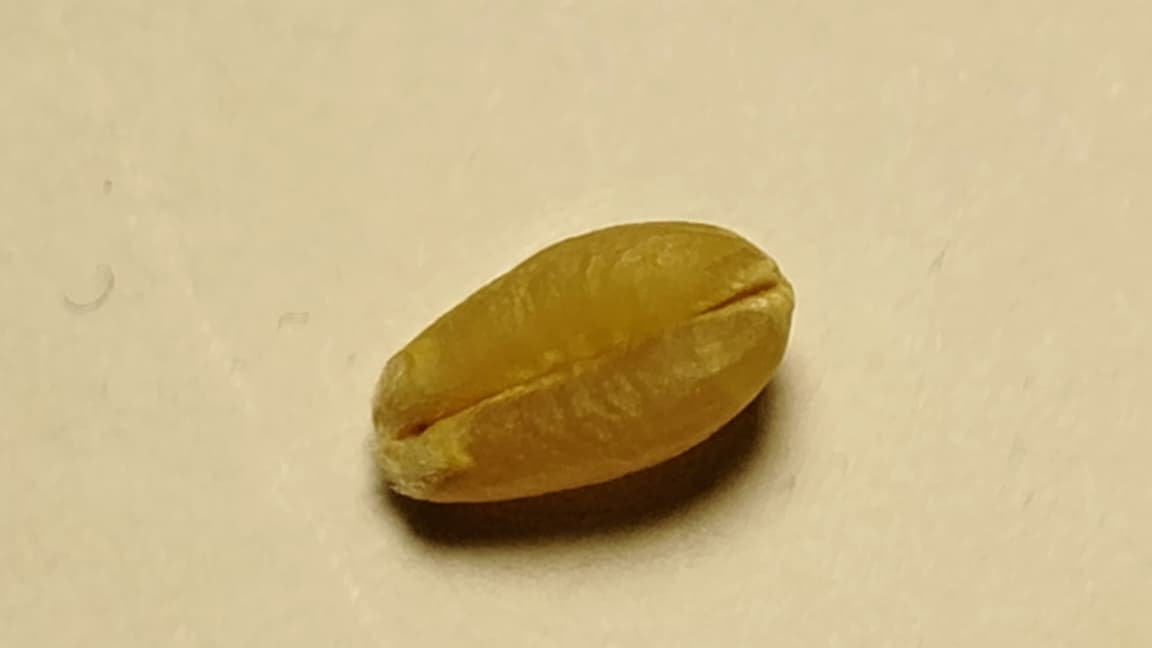healthy: (365, 219, 795, 509)
